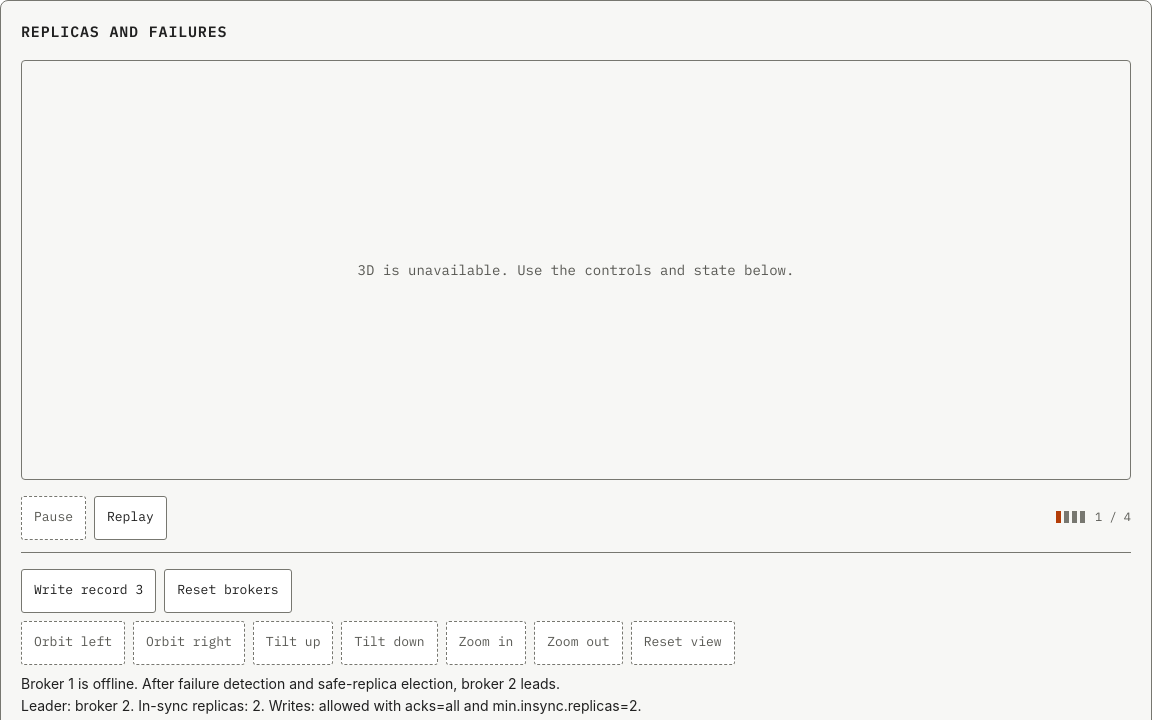
it: Kafka introduction 3D shells › stops autoplay after a WebGL failure while manual controls still work
Check: the text "After failure detection" is shown, box [21, 674, 560, 692]
Step 1. Click the button "Write record 3" → (89, 590), box [21, 568, 156, 612]
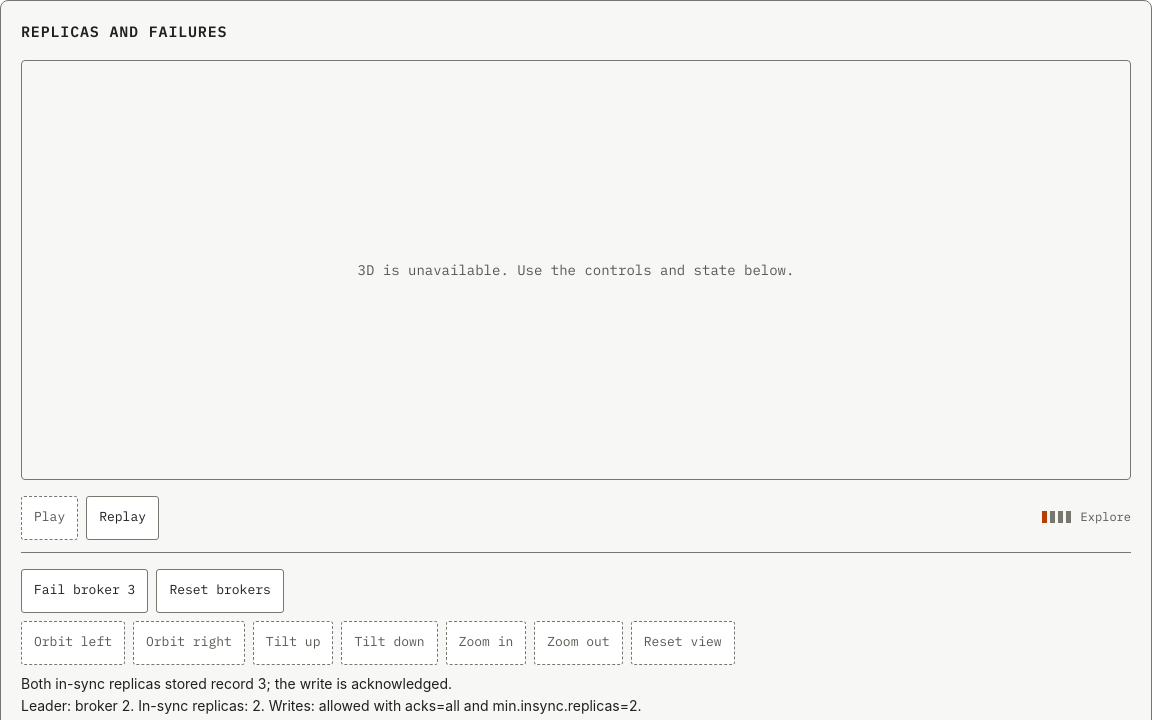
Check: the text "Both in-sync replicas stored record 3" is shown, box [21, 674, 452, 692]
